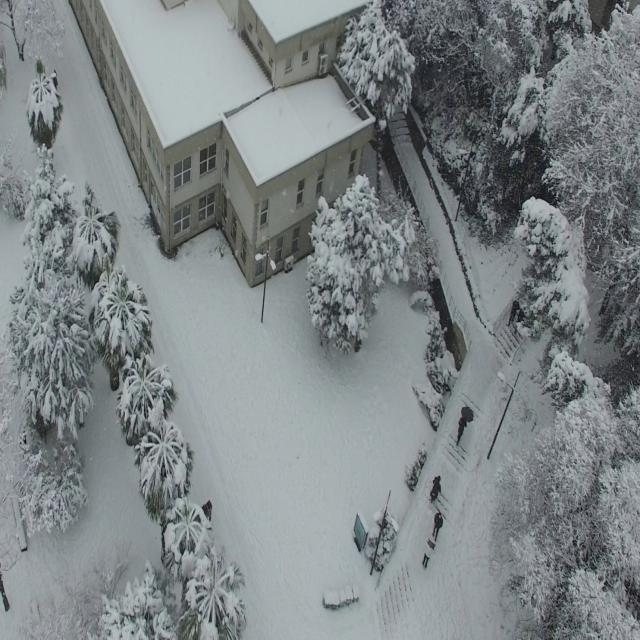p3rson: (432, 512, 443, 541), (508, 300, 520, 326), (430, 475, 441, 503), (457, 417, 467, 446), (422, 542, 432, 569), (514, 309, 524, 334), (207, 500, 212, 522), (202, 504, 207, 517)
